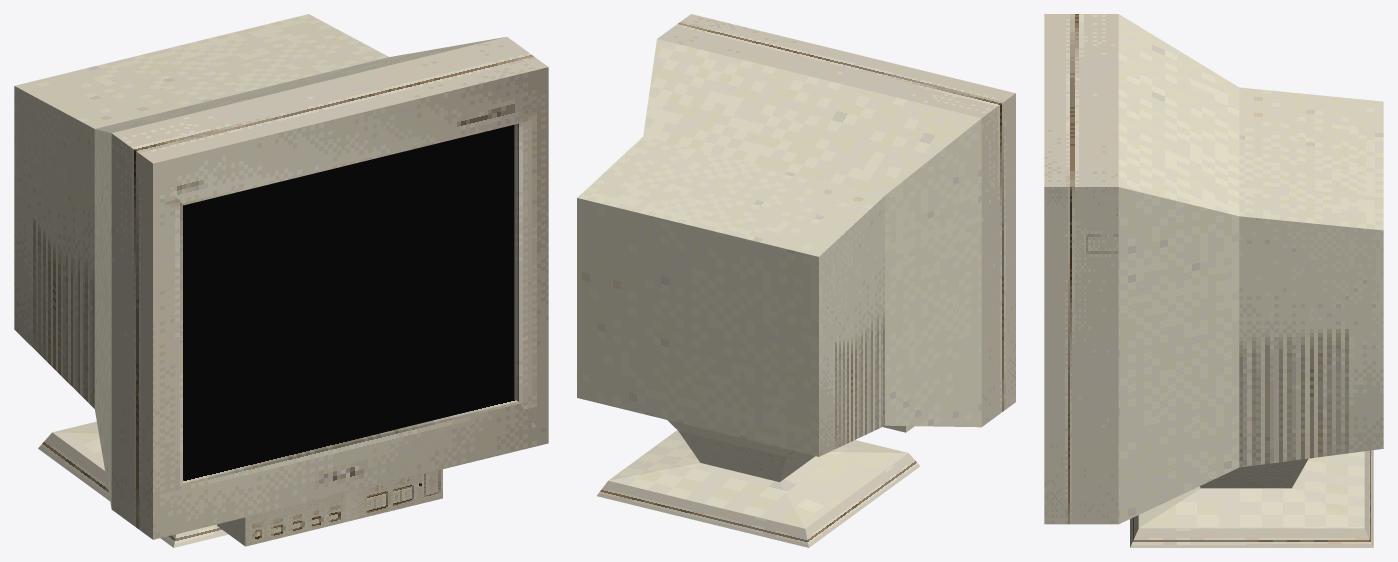
File: CrtMonitor.glb
3 renders of one model, left to right at view 1: azimuth 30°, elevation 25°; view 2: azimuth 150°, elevation 25°; view 3: azimuth 270°, elevation 25°, orthographic. The views are drawn at different scales.
Visible parts, largest first — view 1: CrtMonitor; view 2: CrtMonitor; view 3: CrtMonitor.
Part boxes in pixels (left/top/right/bottom): CrtMonitor: left=14, top=14, right=548, bottom=547; CrtMonitor: left=577, top=14, right=1015, bottom=547; CrtMonitor: left=1044, top=14, right=1383, bottom=547.
Size of the model in its own units: 0.506 by 0.533 by 0.4194.
Materials: 1 (1 with a texture image).
